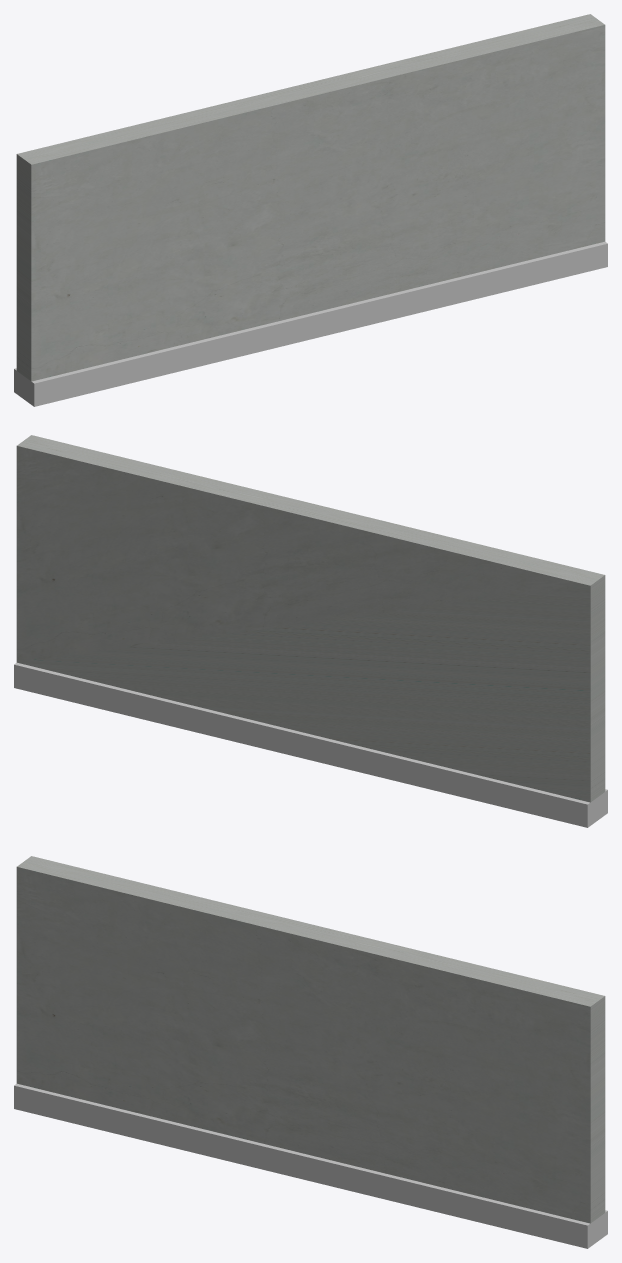
The model's file is WallBasic.fbx.
3 renders of one model, top to bottom at view 1: azimuth 30°, elevation 25°; view 2: azimuth 150°, elevation 25°; view 3: azimuth 330°, elevation 25°, orthographic.
Visible parts, largest first — view 1: Wall; view 2: Wall; view 3: Wall.
Part boxes in pixels (bbox=[...]): Wall: bbox=[14, 14, 607, 406]; Wall: bbox=[14, 435, 607, 827]; Wall: bbox=[14, 856, 607, 1248].
Bounding box in the file's own units: 900 × 360 × 55.
